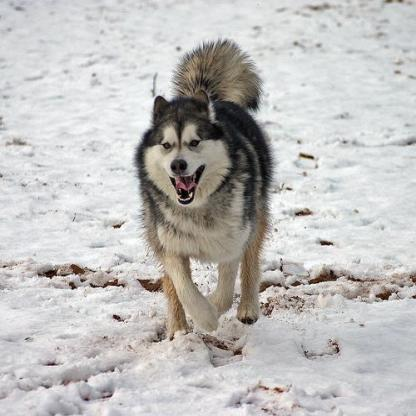malamute: (130, 36, 274, 349)
